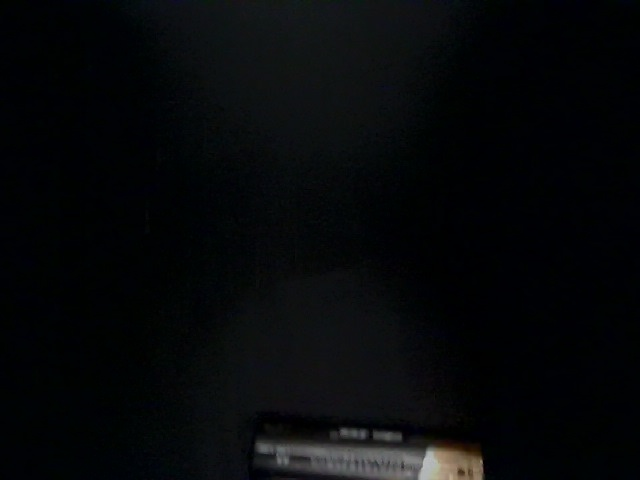YHLJ: (122, 108, 355, 217)
